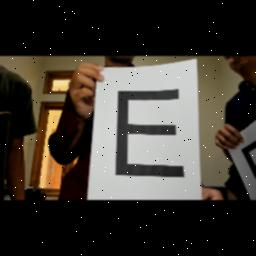e: (110, 87, 190, 185)
